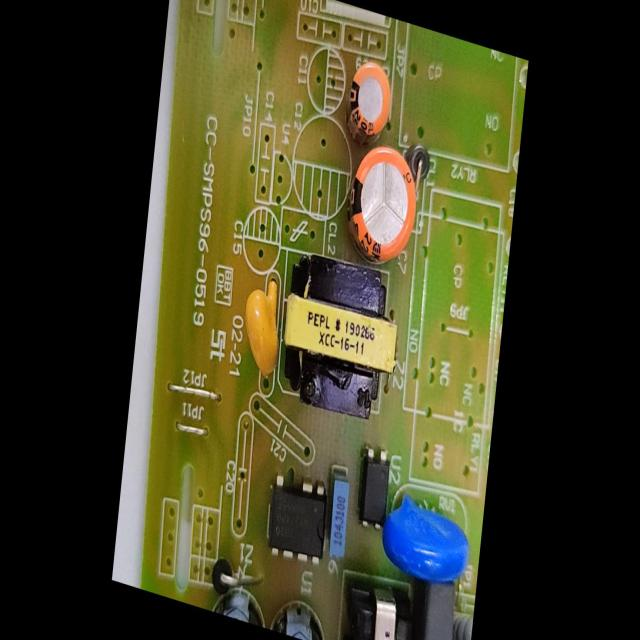Cap1: (337, 129, 425, 273)
Cap2: (341, 53, 397, 150)
Cap3: (271, 584, 344, 639)
MOSFET: (265, 463, 328, 575)
Mov: (376, 485, 477, 595)
Resistor: (448, 601, 474, 639)
Transformer: (273, 242, 403, 436), (346, 584, 419, 639)
